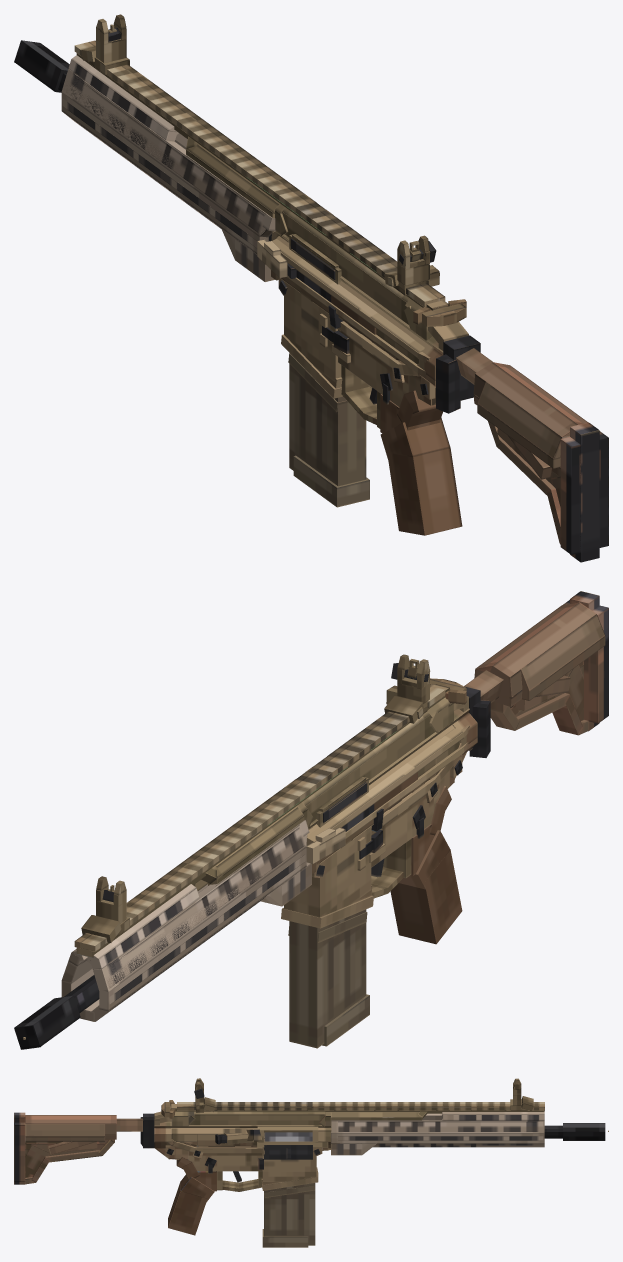
3 views of the same model, one above another, from view 1: azimuth 30°, elevation 25°; view 2: azimuth 150°, elevation 25°; view 3: azimuth 270°, elevation 25° (orthographic). The views are drawn at different scales.
Parts seen in each view (by area): view 1: gun_1, stock, magazine_3, bolt3_1, rearsight_19, frontsight_12, action_9; view 2: gun_1, stock, magazine_3, bolt3_1, rearsight_19, frontsight_12; view 3: gun_1, stock, magazine_3, bolt3_1.
Boxes of the visible parts, box(x1,y1,x2,y2) form: gun_1: box(14, 40, 492, 535); stock: box(473, 362, 608, 562); magazine_3: box(288, 353, 369, 507); bolt3_1: box(257, 239, 376, 334); rearsight_19: box(397, 235, 436, 285); frontsight_12: box(96, 14, 126, 64); action_9: box(413, 299, 466, 326); gun_1: box(14, 670, 503, 1049); stock: box(474, 591, 608, 735); magazine_3: box(288, 909, 369, 1048); bolt3_1: box(306, 772, 417, 863); rearsight_19: box(391, 654, 430, 703); frontsight_12: box(96, 876, 126, 923); gun_1: box(116, 1096, 605, 1235); stock: box(14, 1112, 116, 1184); magazine_3: box(262, 1183, 315, 1247); bolt3_1: box(264, 1132, 312, 1141).
Bounding box in the file's own units: 0.4791 × 1.96 × 6.53.
